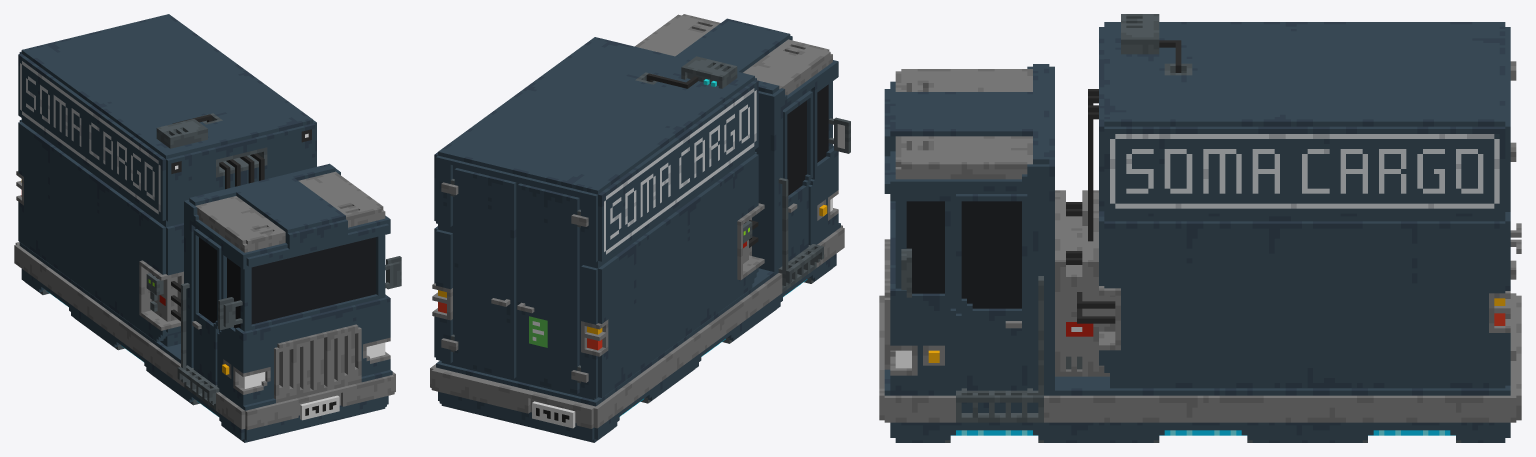
Rendered from truck_01.obj.
3 views of the same model, side by side, from view 1: azimuth 30°, elevation 25°; view 2: azimuth 150°, elevation 25°; view 3: azimuth 270°, elevation 25° (orthographic). The views are drawn at different scales.
Parts seen in each view (by area): view 1: truck_01; view 2: truck_01; view 3: truck_01.
Part boxes in pixels (<box>): truck_01: <box>14,14,401,442</box>; truck_01: <box>430,14,850,442</box>; truck_01: <box>879,14,1521,442</box>.
Bounding box in the file's own units: 53 × 68 × 117.
1 material, 1 textured.
